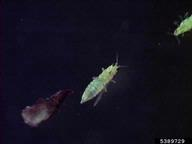Thrips: (85, 58, 126, 111)
